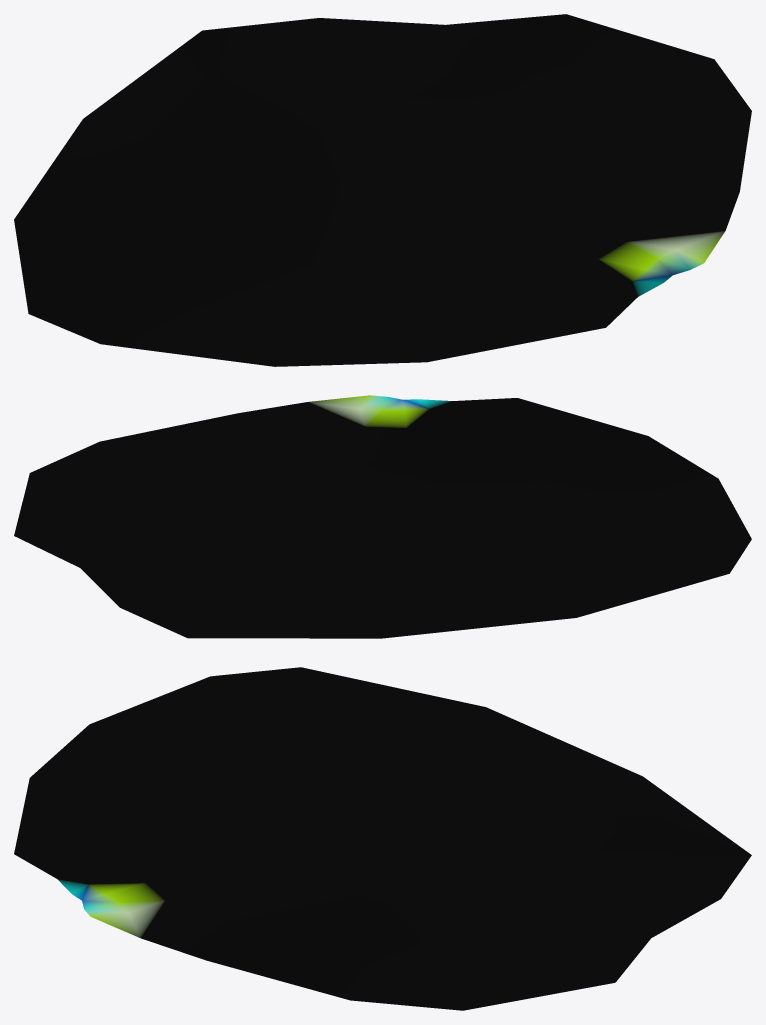
3 views of the same model, one above another, from view 1: azimuth 30°, elevation 25°; view 2: azimuth 150°, elevation 25°; view 3: azimuth 270°, elevation 25° (orthographic). The views are drawn at different scales.
Parts seen in each view (by area): view 1: G:\FFXIV-MapTools\exports\y6f1\bg\ex5\02_ykt_y6\fld\y6f1\bgp; view 2: G:\FFXIV-MapTools\exports\y6f1\bg\ex5\02_ykt_y6\fld\y6f1\bgp; view 3: G:\FFXIV-MapTools\exports\y6f1\bg\ex5\02_ykt_y6\fld\y6f1\bgp.
Boxes of the visible parts, bbox=[...] form: G:\FFXIV-MapTools\exports\y6f1\bg\ex5\02_ykt_y6\fld\y6f1\bgp: bbox=[14, 14, 751, 366]; G:\FFXIV-MapTools\exports\y6f1\bg\ex5\02_ykt_y6\fld\y6f1\bgp: bbox=[14, 395, 751, 638]; G:\FFXIV-MapTools\exports\y6f1\bg\ex5\02_ykt_y6\fld\y6f1\bgp: bbox=[14, 667, 751, 1010].
Bounding box in the file's own units: 25.89 × 0.0799 × 23.48.
